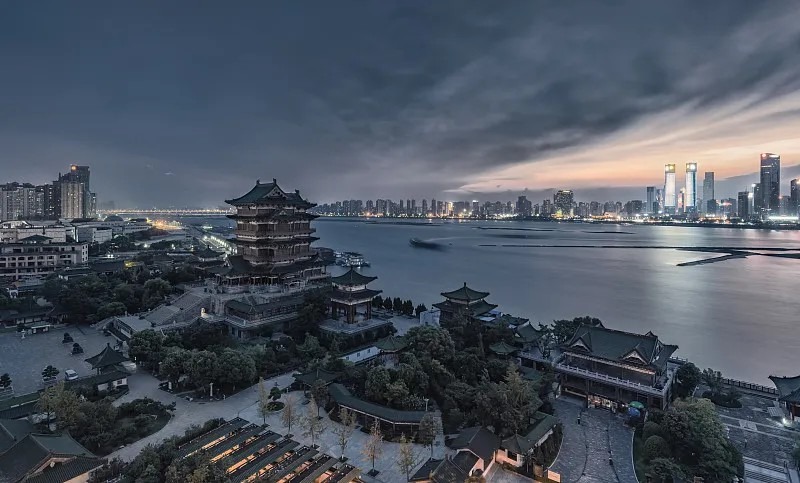Teng: (225, 179, 322, 283)
